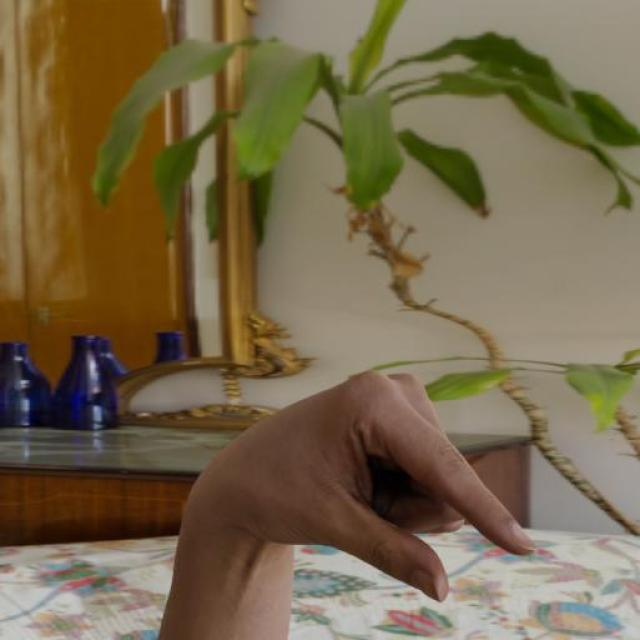Q: (166, 369, 541, 605)
